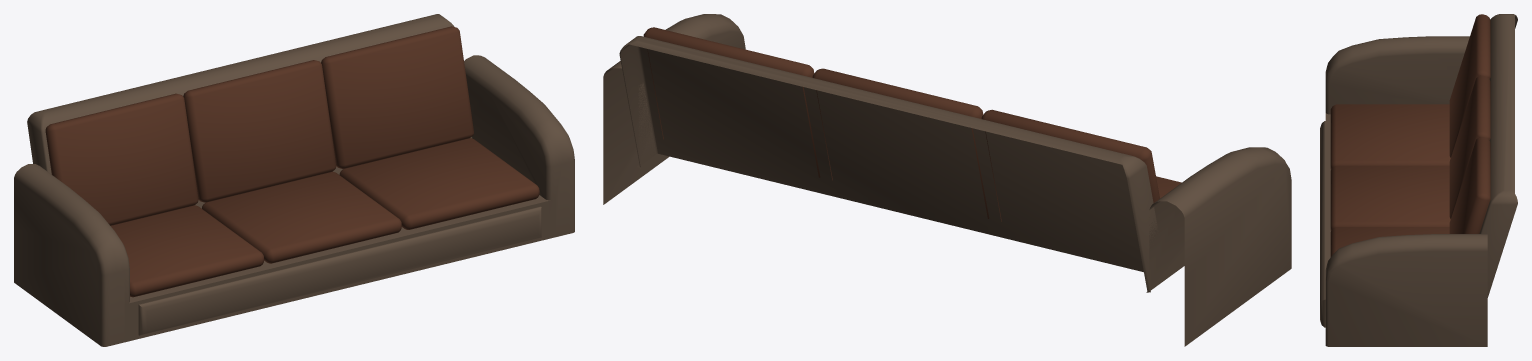
Rendered from sofa.fbx.
The picture shows the model from 3 angles, left to right: view 1: azimuth 30°, elevation 25°; view 2: azimuth 150°, elevation 25°; view 3: azimuth 270°, elevation 25°; orthographic projection. The views are drawn at different scales.
Parts seen in each view (by area): view 1: Cube.002; view 2: Cube.002; view 3: Cube.002.
Boxes of the visible parts, <box> form: Cube.002: <box>14,14,574,346</box>; Cube.002: <box>603,14,1291,346</box>; Cube.002: <box>1320,14,1517,346</box>.
Bounding box in the file's own units: 981 × 302 × 389.
